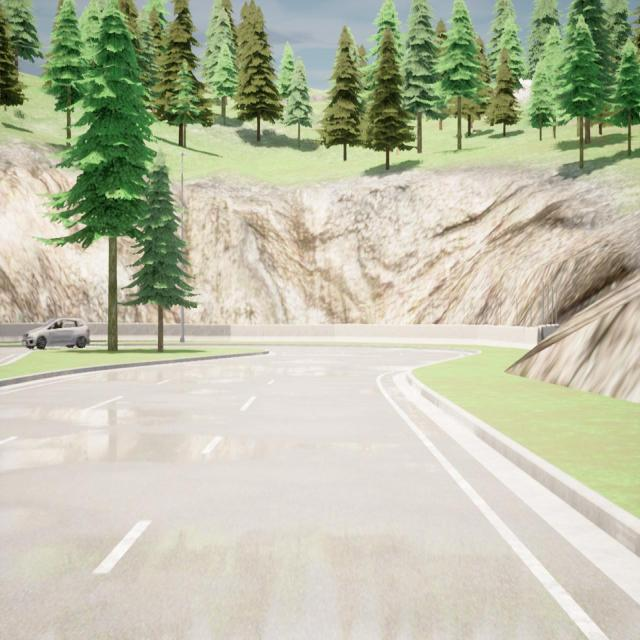Vehicle: (23, 317, 90, 348)
